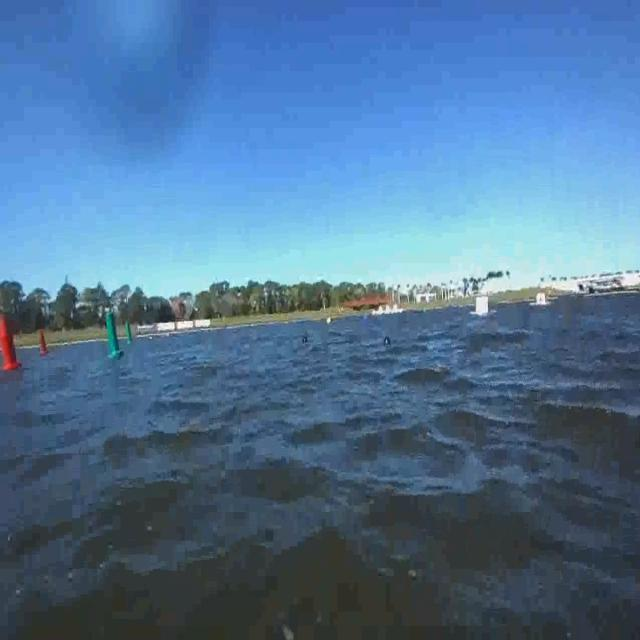black-buoy: (384, 336, 390, 346), (304, 336, 308, 342)
green-column-buoy: (103, 308, 124, 359), (125, 321, 135, 344)
red-column-buoy: (0, 314, 23, 374), (34, 327, 48, 359)
